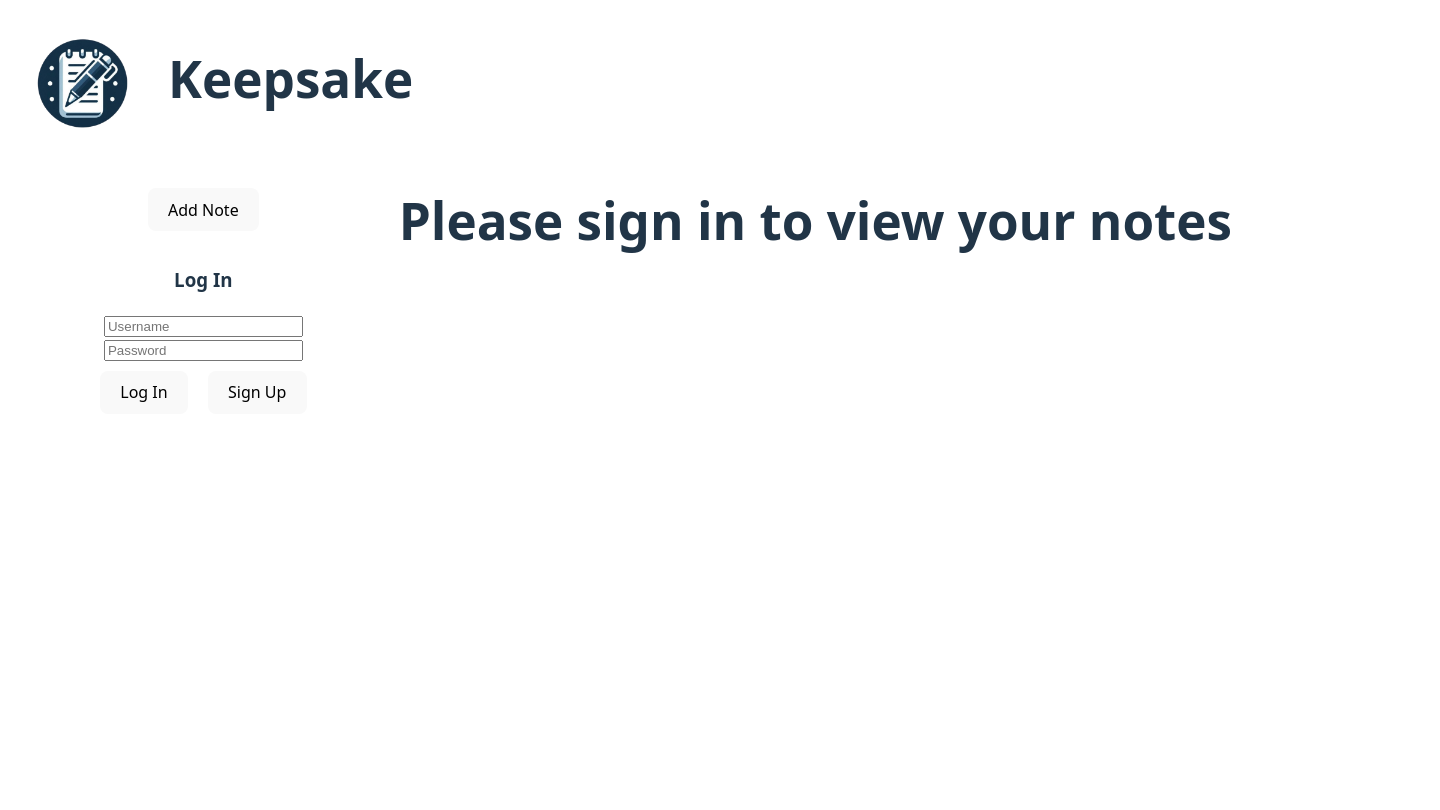
Entering in the correct username and password logs you in
This screenshot has width=1440, height=810.
Type "Test user 1" into the field with placeholder "Username" at (203, 326), box left=104, top=316, right=303, bottom=337
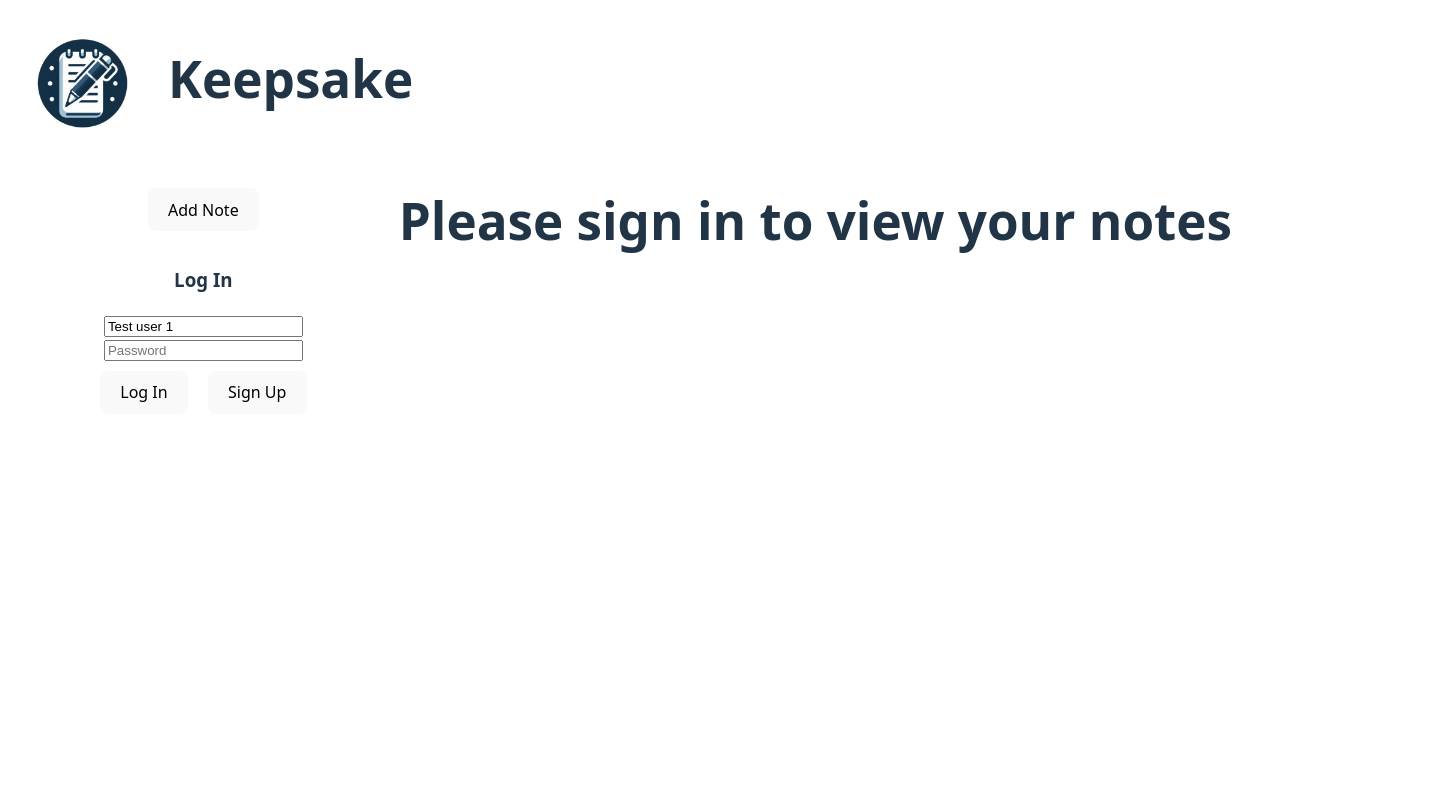
Type "password" into the password field with placeholder "Password" at (203, 350), box left=104, top=340, right=303, bottom=361
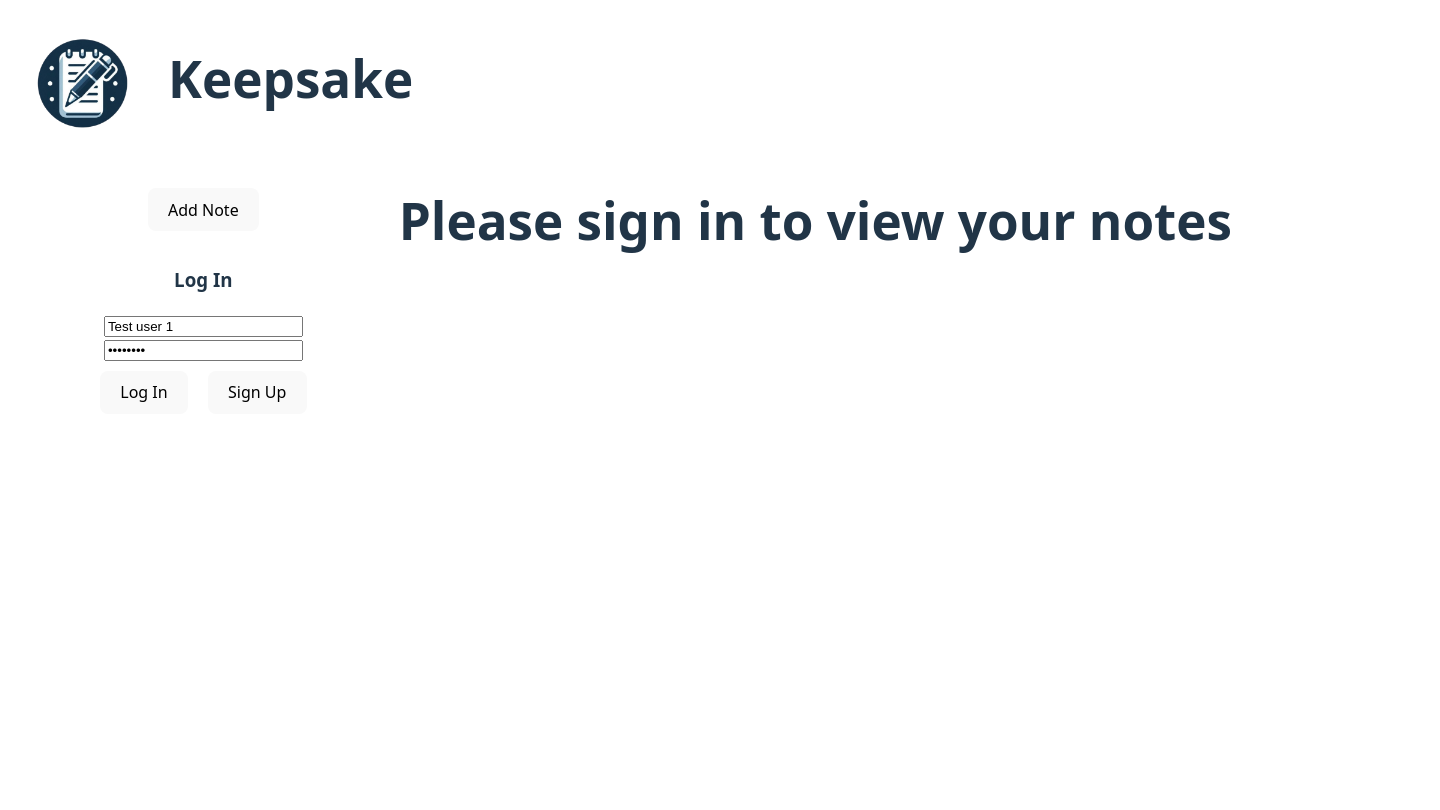
Click the button "Log In" at (144, 392), box left=100, top=371, right=188, bottom=414
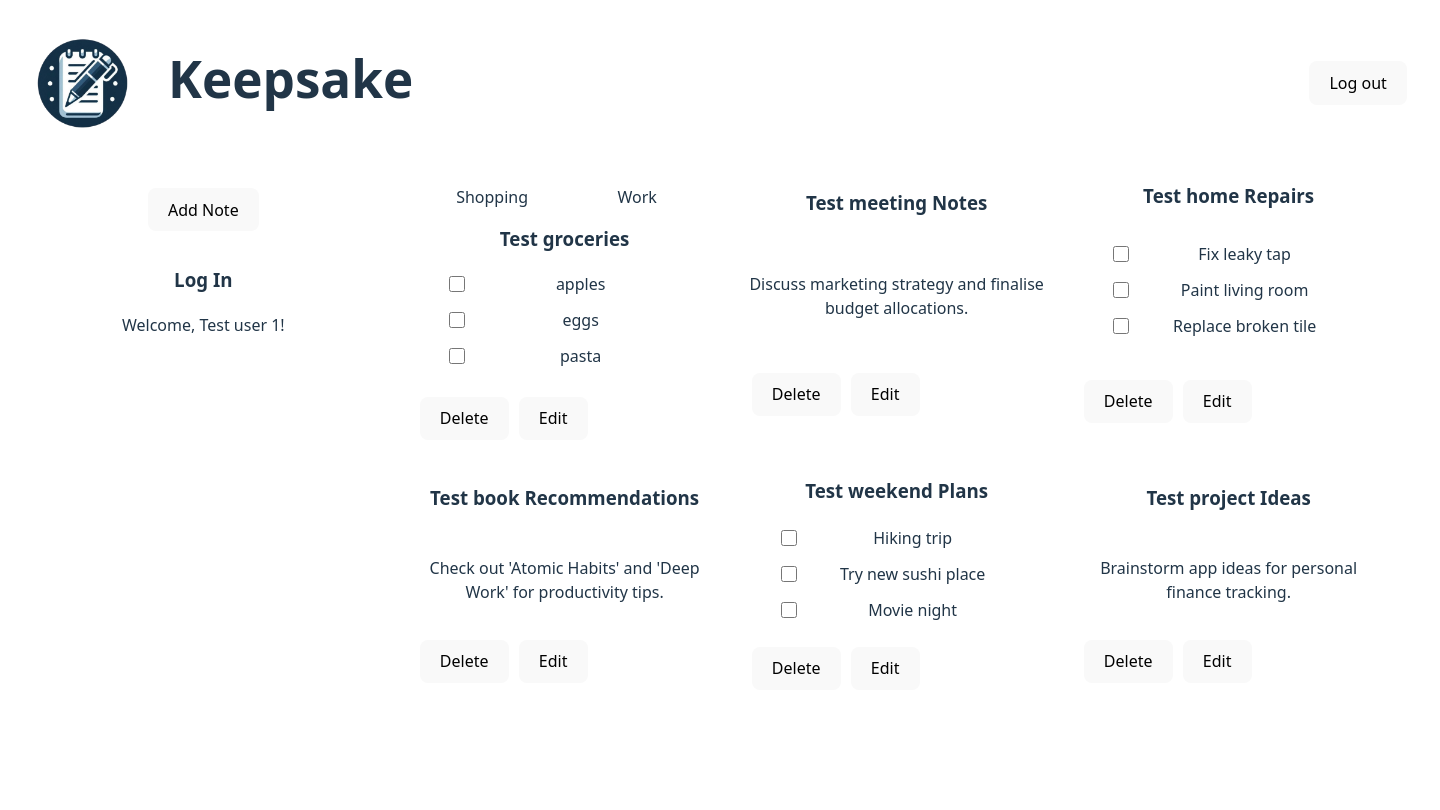
Expected: the text "Welcome, Test user 1!" is shown, left=122, top=314, right=285, bottom=336
